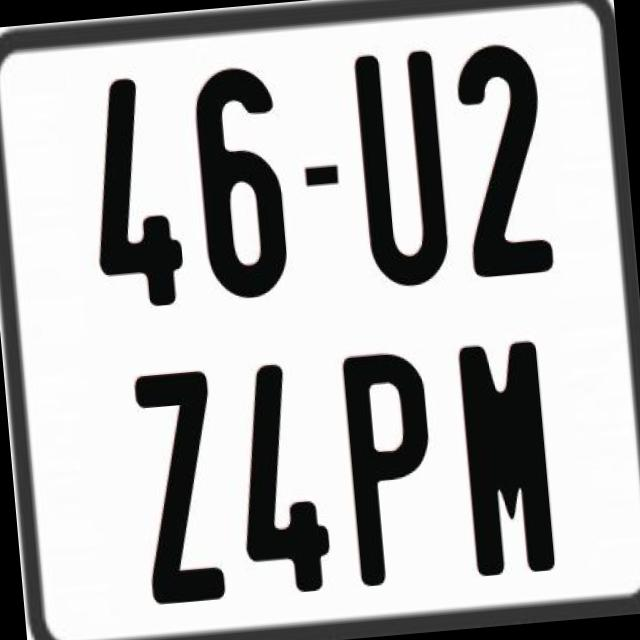2: (452, 38, 558, 284)
4: (226, 359, 336, 595), (82, 72, 184, 307)
6: (188, 63, 288, 307)
M: (457, 340, 562, 586)
P: (342, 350, 444, 592)
U: (351, 50, 452, 288)
Z: (131, 370, 226, 613)
